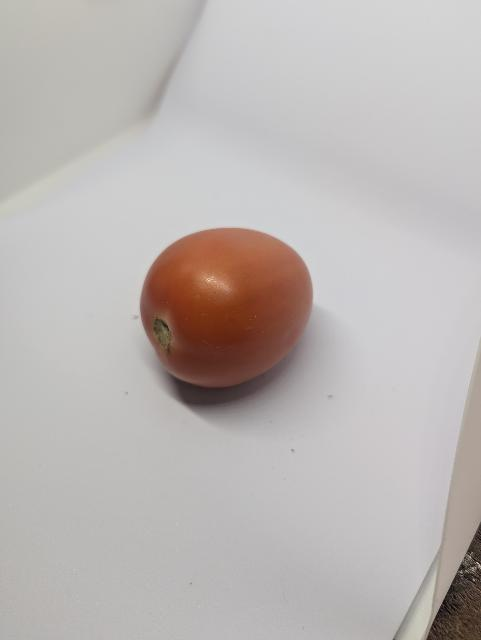red: (127, 223, 325, 409)
